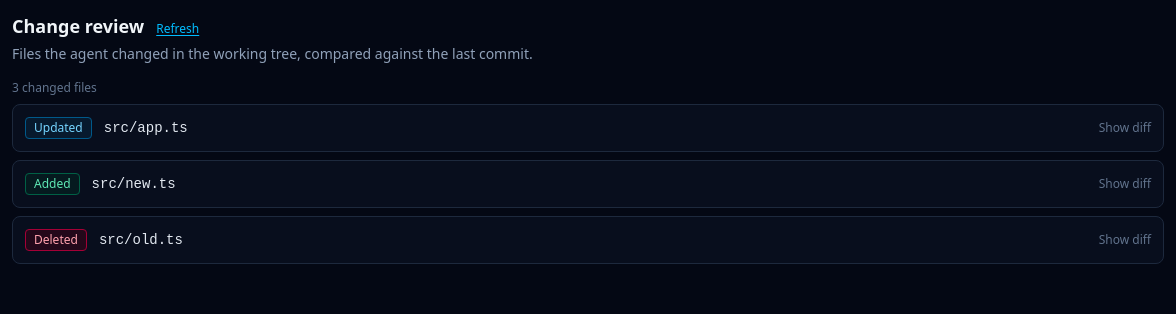
Test case: ChangeReviewPanel › surfaces a diff failure on the row without destroying the list
What coordinates should you click on to do the following:
click the button "Updated src/app.ts Show diff"
I would click on:
 (58, 128)
Its box is [13,105,1163,151].
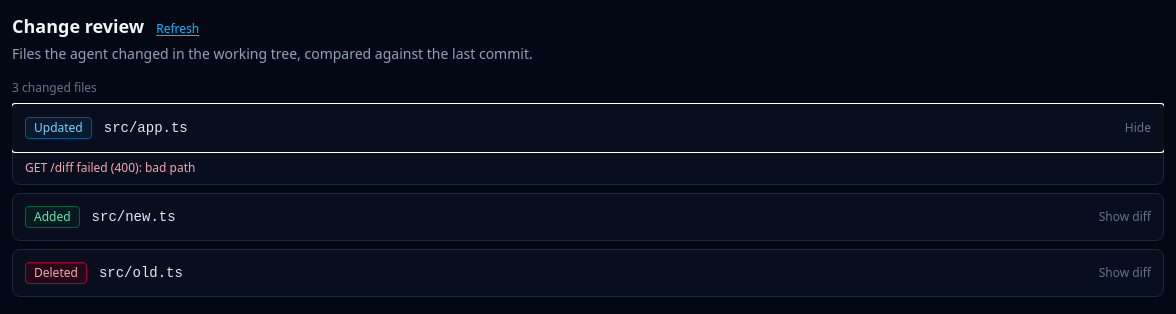
Expected: the number of list items with test id "change-row" is 3, [12,104,1164,185]; [12,193,1164,241]; [12,249,1164,297]
Now the message shows "bad path", box [25,159,195,176]
